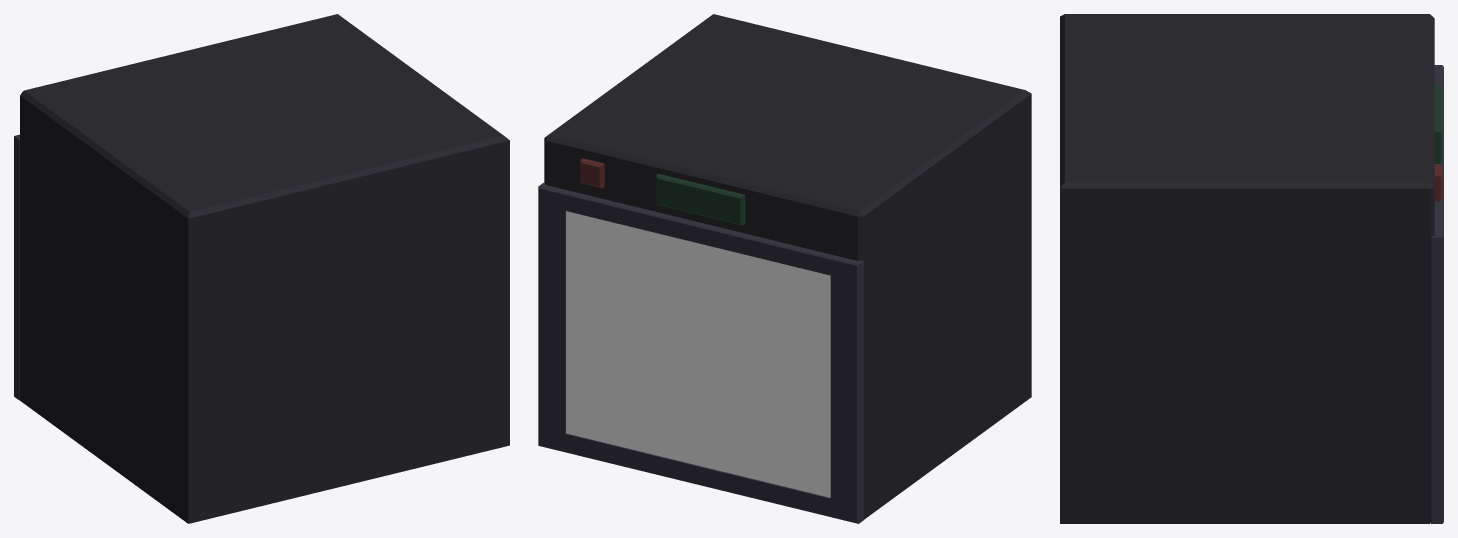
File: Oven 1.fbx
The picture shows the model from 3 angles, left to right: view 1: azimuth 30°, elevation 25°; view 2: azimuth 150°, elevation 25°; view 3: azimuth 270°, elevation 25°; orthographic projection. The views are drawn at different scales.
Parts seen in each view (by area): view 1: Oven, Door; view 2: Oven, Glass, Door, Button_Open_Close, Button_On_Off; view 3: Oven, Door, Button_Open_Close.
Part boxes in pixels (x1,y1,x2,y2): Oven: (20,14,509,523); Door: (14,134,19,400); Oven: (544,14,1031,519); Glass: (566,211,830,497); Door: (538,183,863,523); Button_Open_Close: (656,174,745,225); Button_On_Off: (580,158,604,188); Oven: (1060,14,1434,523); Door: (1430,65,1443,523); Button_Open_Close: (1434,85,1442,163).
Size of the model in its own units: 0.8291 by 0.7606 by 0.7792.
